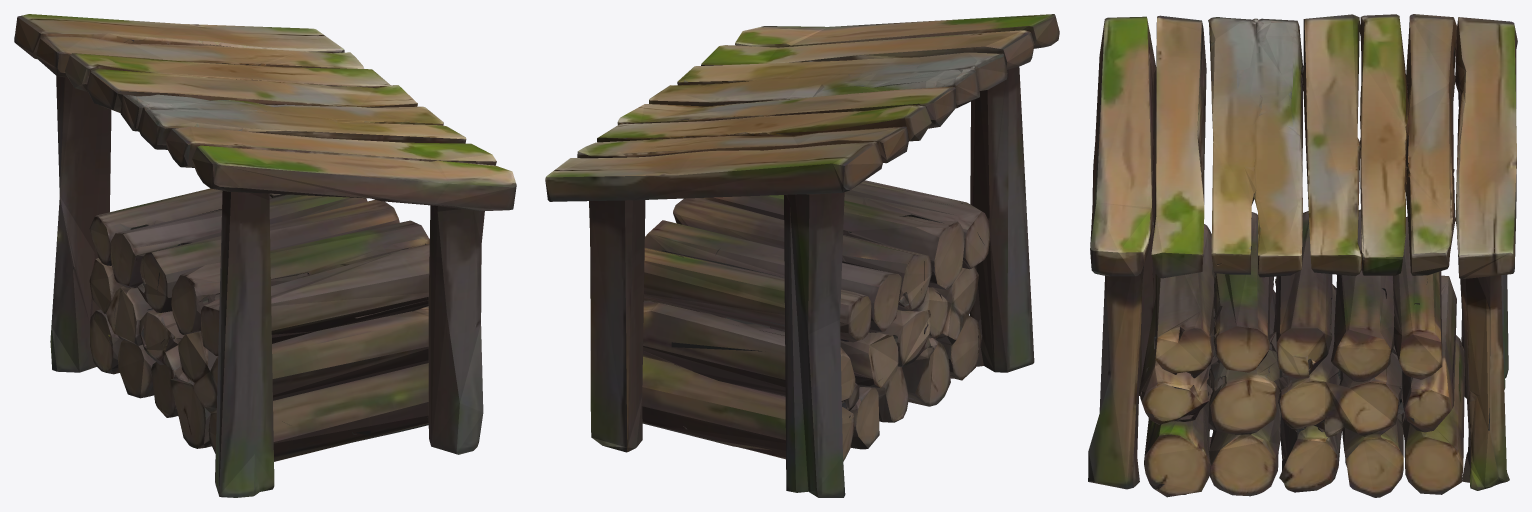
File: woodpile.glb
The picture shows the model from 3 angles, left to right: view 1: azimuth 30°, elevation 25°; view 2: azimuth 150°, elevation 25°; view 3: azimuth 270°, elevation 25°; orthographic projection.
Parts seen in each view (by area): view 1: world; view 2: world; view 3: world.
Part boxes in pixels (<box>): world: <box>14,14,516,497</box>; world: <box>545,14,1059,497</box>; world: <box>1088,14,1517,497</box>.
Size of the model in its own units: 0.8288 by 0.887 by 0.98.
1 material, 1 textured.
